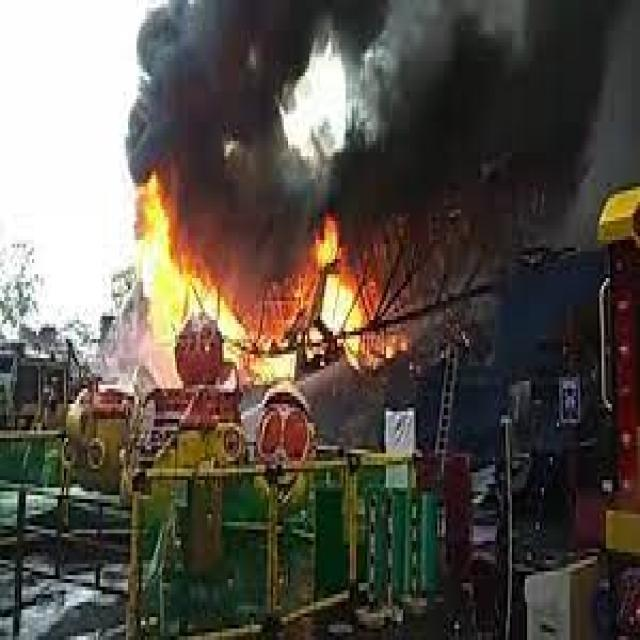Fire: (135, 196, 213, 372), (324, 240, 372, 372)
Smoke: (162, 0, 640, 198)
